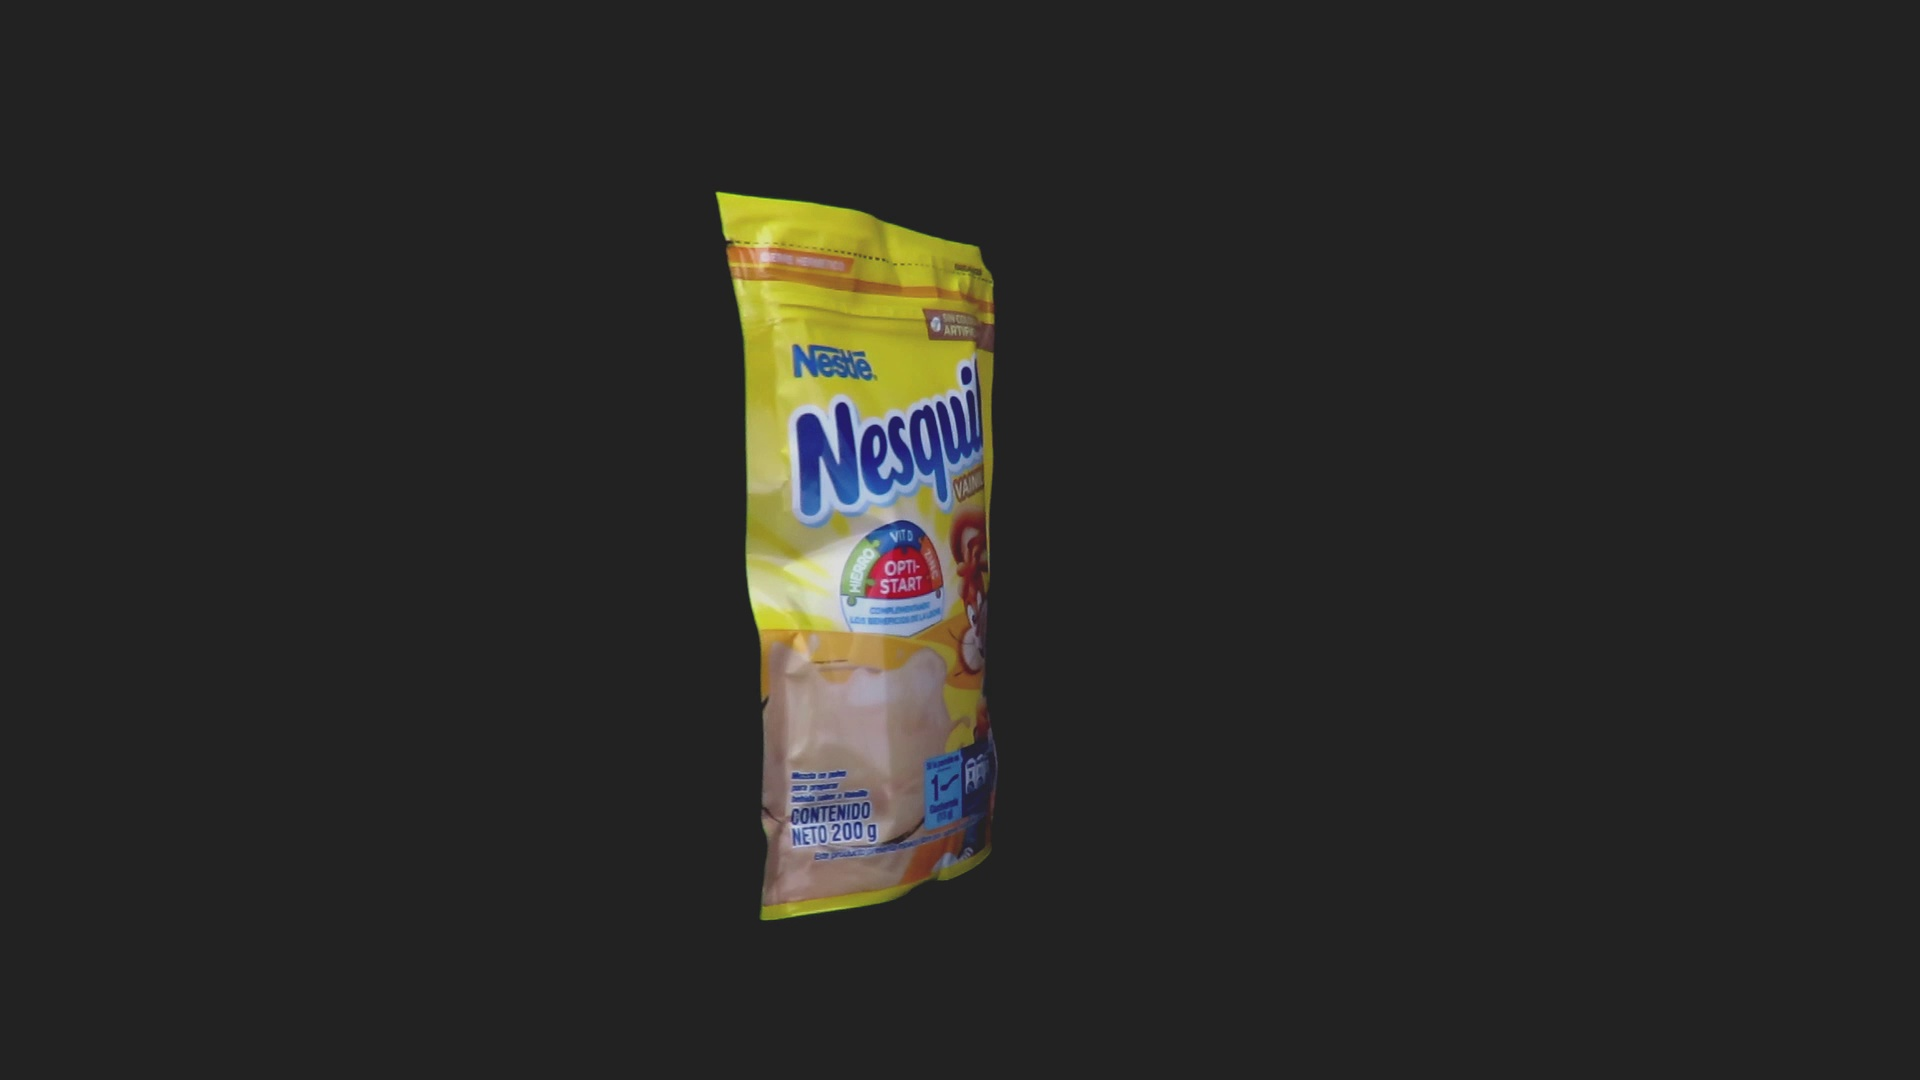COL0170306DYP20000: (711, 187, 1004, 927)
